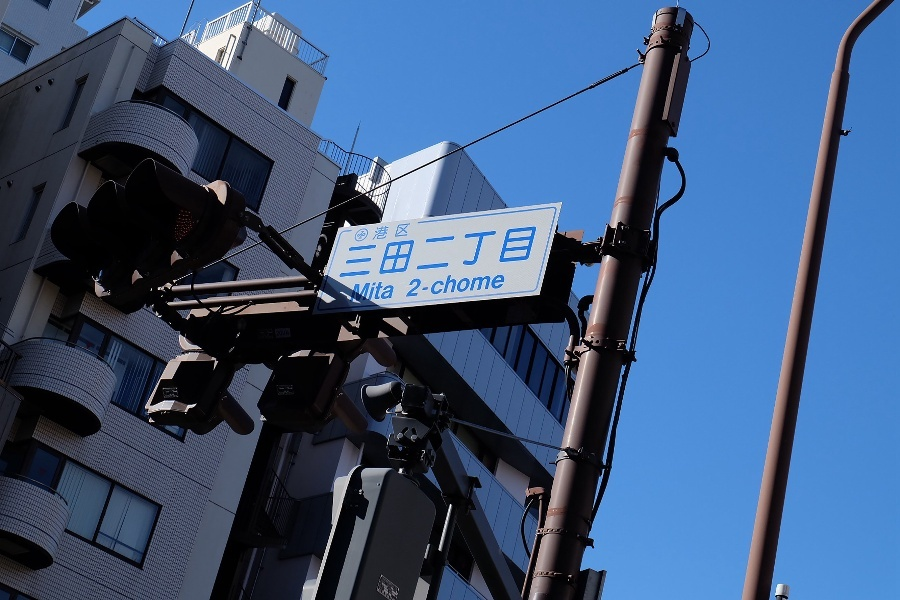text: (353, 225, 368, 278), (369, 225, 384, 278), (385, 225, 400, 278), (401, 225, 416, 278), (417, 225, 432, 278), (433, 225, 448, 278), (449, 225, 464, 278), (465, 225, 480, 278), (481, 225, 496, 278), (497, 225, 512, 278), (513, 225, 528, 278), (529, 225, 539, 278), (417, 273, 432, 298), (433, 273, 448, 298), (449, 273, 464, 298), (465, 273, 480, 298), (481, 273, 496, 298), (369, 281, 384, 303), (354, 281, 368, 303), (385, 223, 400, 241), (497, 273, 507, 298), (385, 281, 396, 303), (401, 223, 412, 241), (349, 225, 352, 278), (377, 223, 384, 241), (411, 273, 416, 298)
